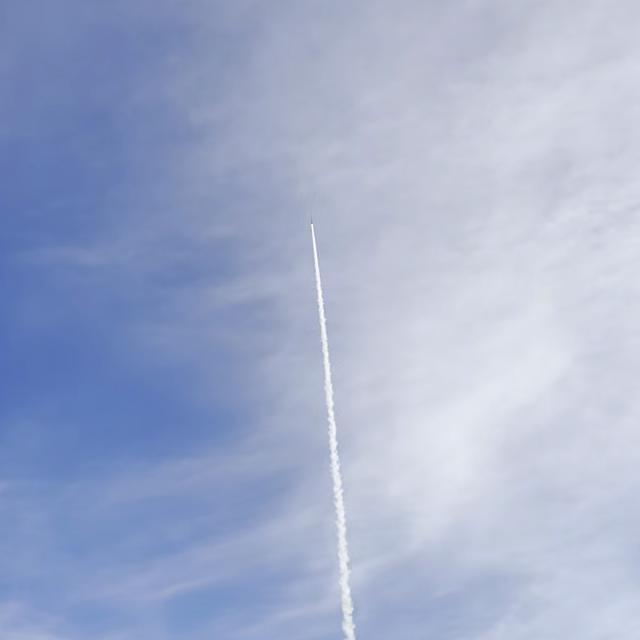smoke_trail_with_rocket: (310, 222, 357, 640)
